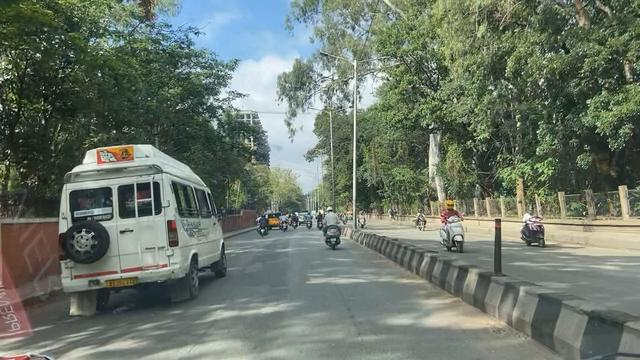HMV: (35, 149, 225, 296)
